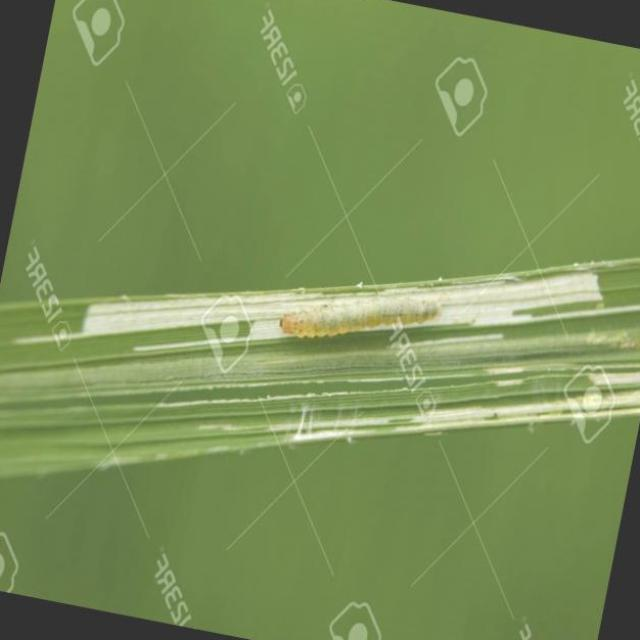leaf folder: (280, 302, 440, 337)
